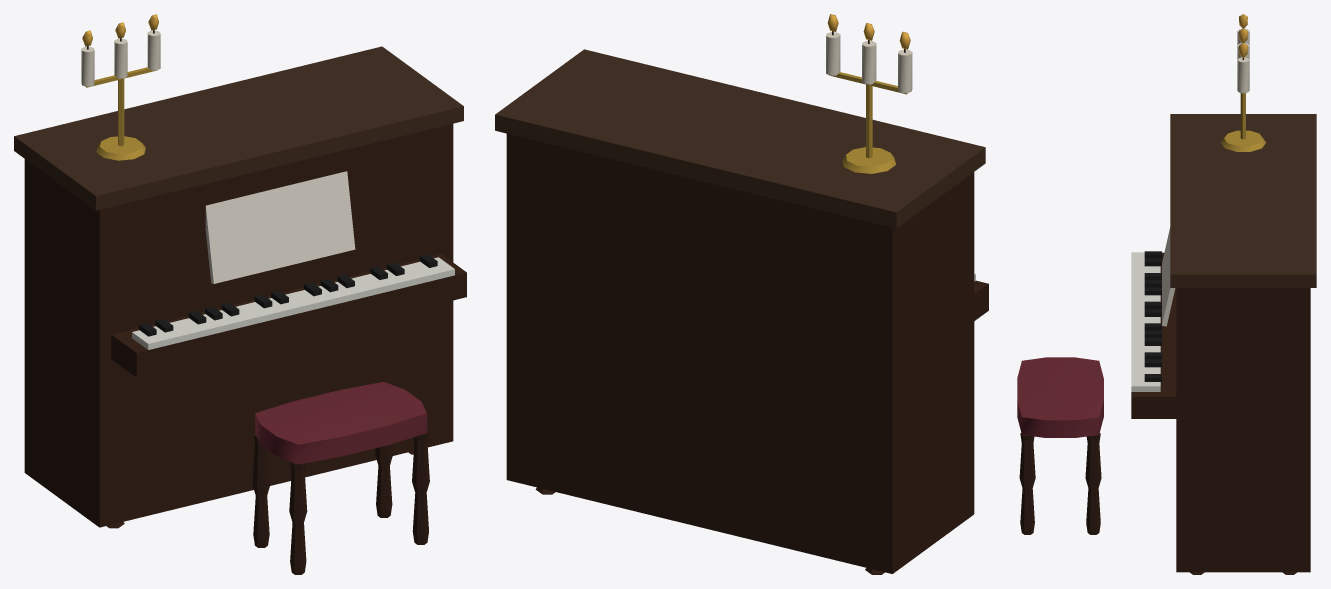
File: piano.glb
3 views of the same model, side by side, from view 1: azimuth 30°, elevation 25°; view 2: azimuth 150°, elevation 25°; view 3: azimuth 270°, elevation 25° (orthographic). The views are drawn at different scales.
Parts seen in each view (by area): view 1: furniture-piano; view 2: furniture-piano; view 3: furniture-piano.
Part boxes in pixels (bbox=[...]): furniture-piano: bbox=[14, 14, 466, 574]; furniture-piano: bbox=[495, 14, 988, 574]; furniture-piano: bbox=[1017, 14, 1316, 574].
Size of the model in its own units: 1.23 by 1.52 by 0.97.
